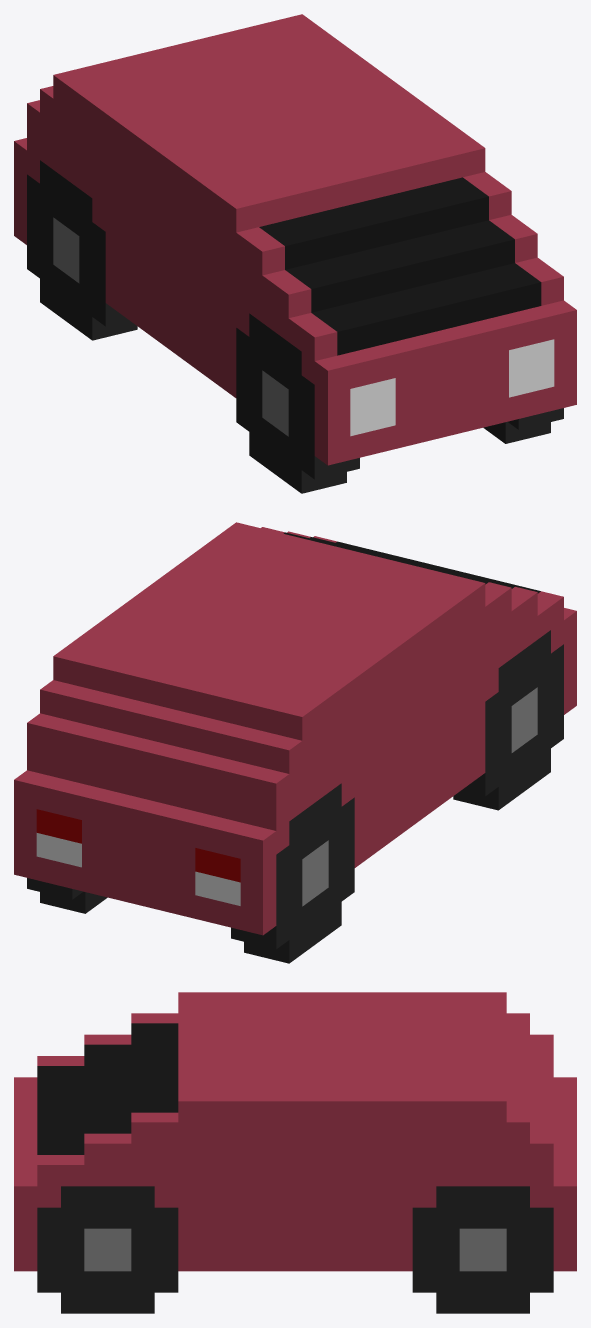
File: sports_pink.obj
3 views of the same model, one above another, from view 1: azimuth 30°, elevation 25°; view 2: azimuth 150°, elevation 25°; view 3: azimuth 270°, elevation 25° (orthographic). The views are drawn at different scales.
Visible parts, largest first — view 1: sports_pink; view 2: sports_pink; view 3: sports_pink.
Part boxes in pixels (bbox=[...]): sports_pink: bbox=[14, 14, 576, 493]; sports_pink: bbox=[14, 522, 576, 963]; sports_pink: bbox=[14, 992, 576, 1313].
Size of the model in its own units: 11 by 10 by 24.
1 material, 1 textured.
